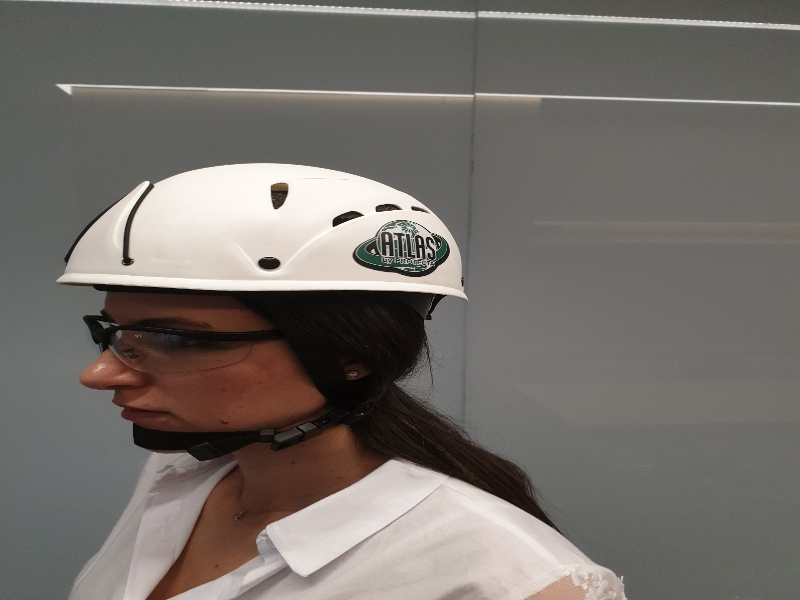Baret: (58, 163, 466, 303)
Gozluk: (82, 314, 316, 374)
